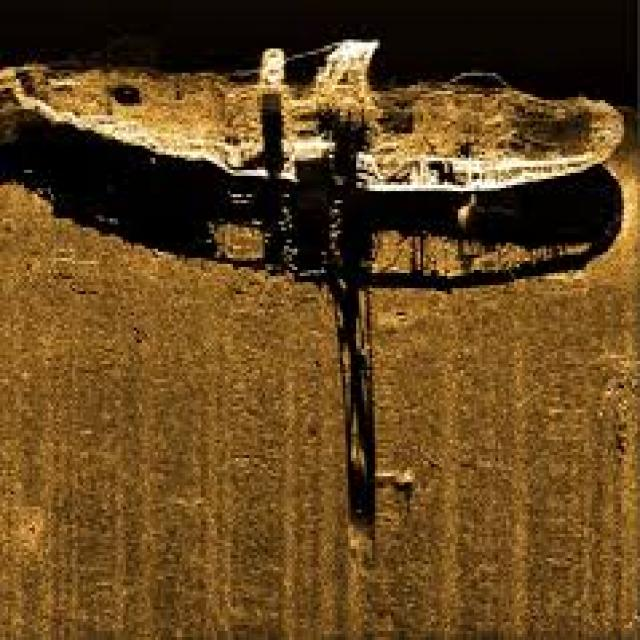ship: (11, 31, 624, 210)
